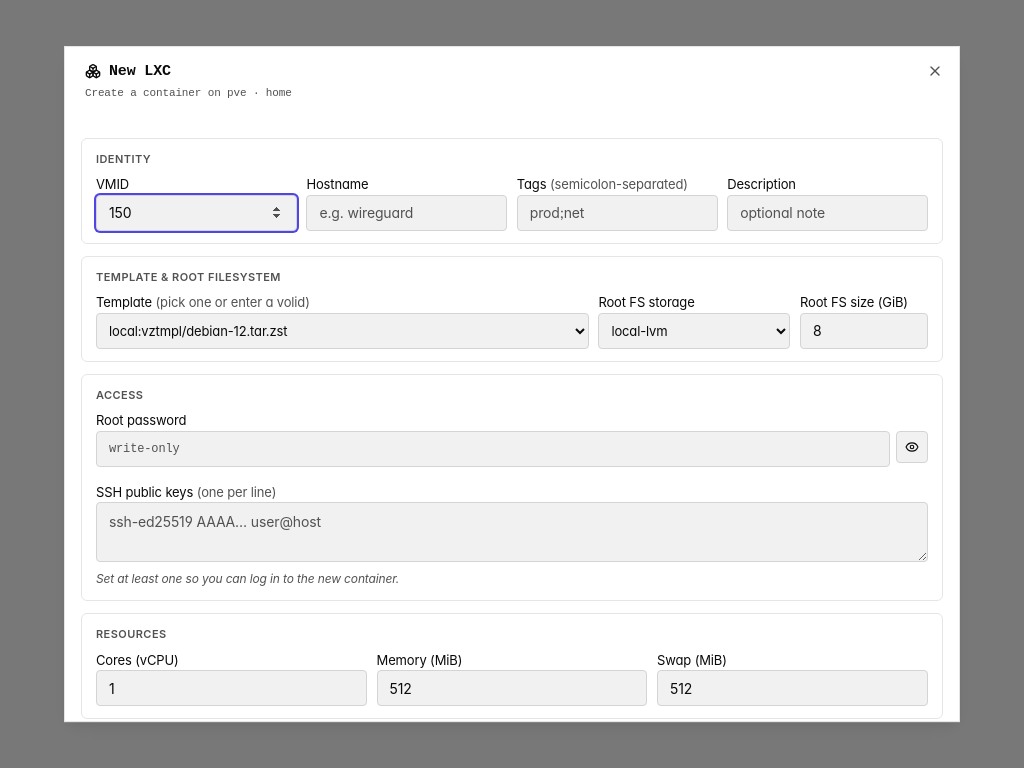
Test case: LxcCreateModal — V6.13.1 › blocks submit on a malformed gateway
The image size is (1024, 768).
Check: the number field showing "150" is shown, box [96,195,297,231]
Step 1. Type "pw" into the password field with placeholder "write-only" → (493, 449), box [96,431,890,467]
(page scrolled)
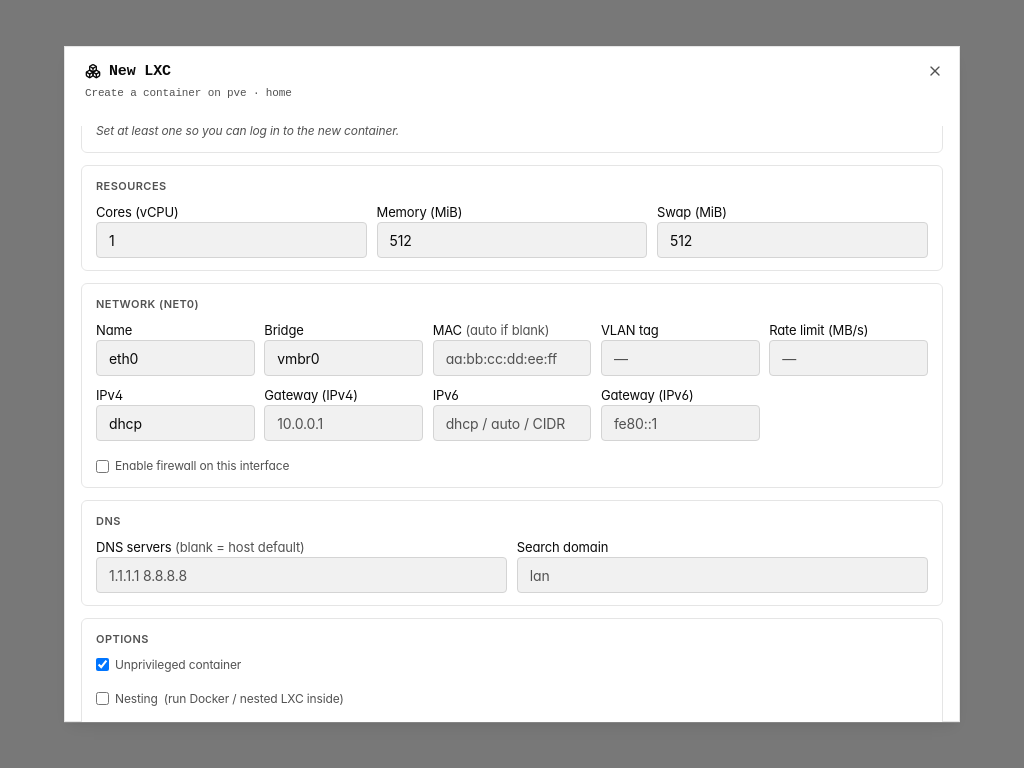
Step 2. Type "999.1.1.1" into the field with placeholder "10.0.0.1" → (344, 423), box [264,405,423,441]
(page scrolled)
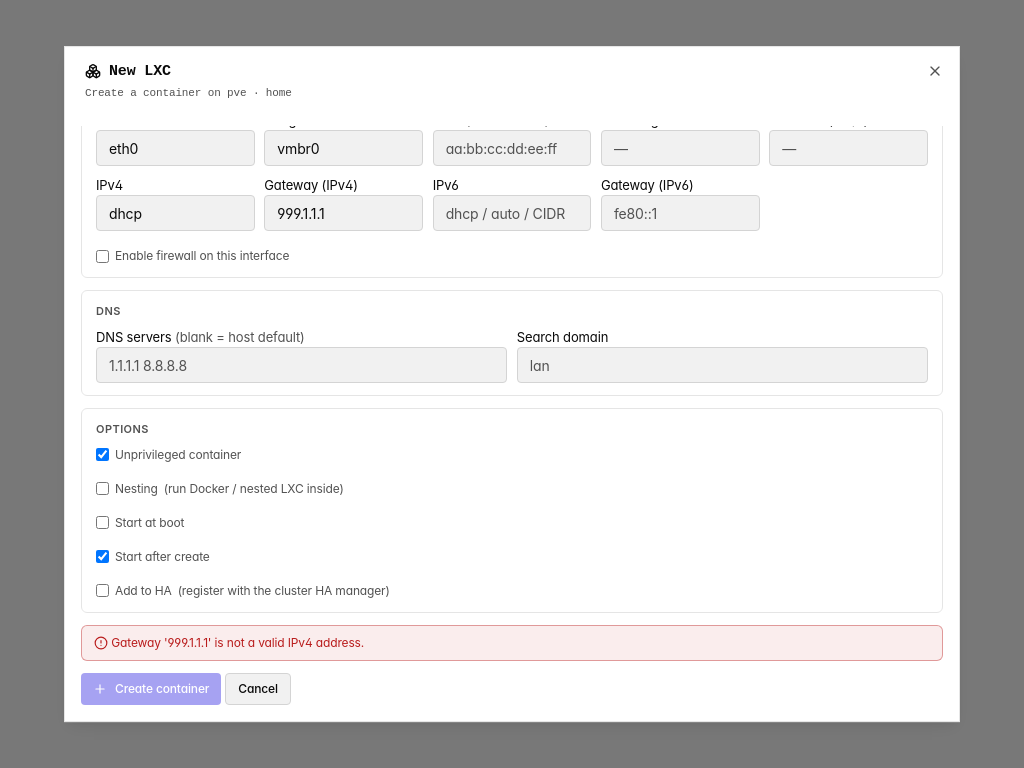
Check: the button "Create container" is disabled, box [81,673,221,705]
